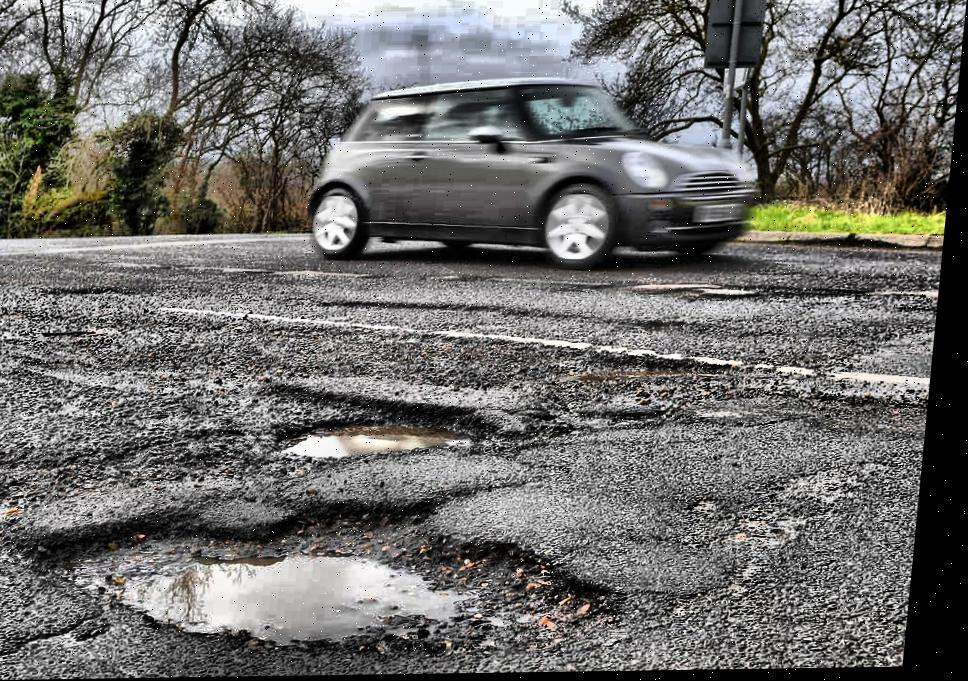pothole: (35, 501, 631, 661), (280, 407, 488, 460), (565, 360, 739, 394)
